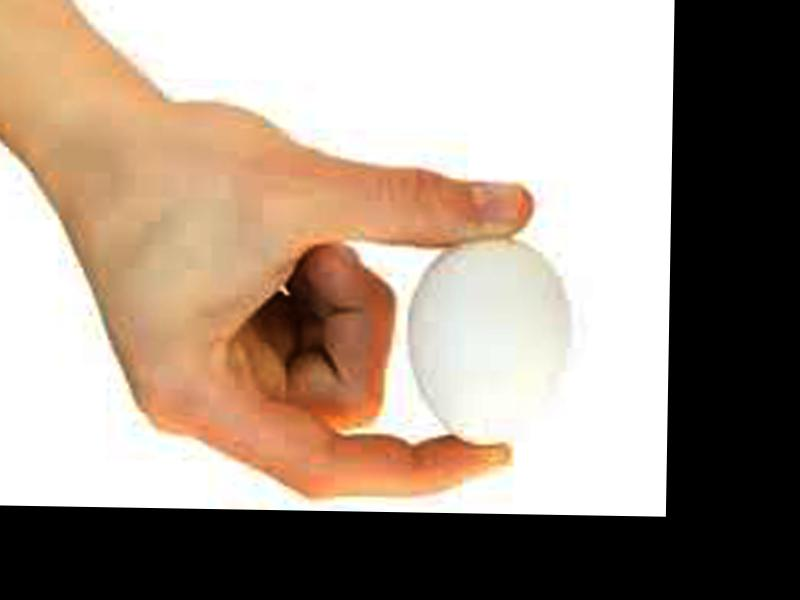Eggs: (405, 234, 568, 445)
